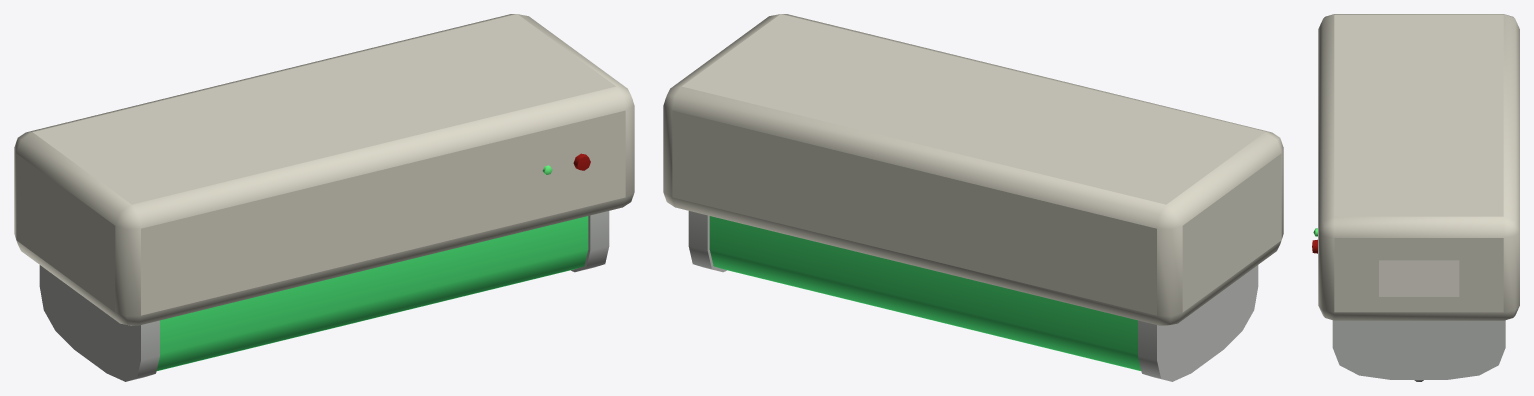
The model's file is safety_light@1.glb.
The picture shows the model from 3 angles, left to right: view 1: azimuth 30°, elevation 25°; view 2: azimuth 150°, elevation 25°; view 3: azimuth 270°, elevation 25°; orthographic projection. The views are drawn at different scales.
Visible parts, largest first — view 1: safety_light0, safety_light1, safety_light2; view 2: safety_light0, safety_light1, safety_light2; view 3: safety_light0, safety_light2, safety_light6.
Part boxes in pixels (x1=…): safety_light0: x1=14, y1=14, x2=634, y2=325; safety_light1: x1=156, y1=216, x2=588, y2=370; safety_light2: x1=39, y1=211, x2=609, y2=381; safety_light0: x1=663, y1=14, x2=1283, y2=325; safety_light1: x1=709, y1=216, x2=1141, y2=370; safety_light2: x1=688, y1=211, x2=1258, y2=381; safety_light0: x1=1318, y1=14, x2=1519, y2=320; safety_light2: x1=1332, y1=320, x2=1505, y2=379; safety_light6: x1=1379, y1=260, x2=1459, y2=296.
Bounding box in the file's own units: 0.3805 × 0.141 × 0.1547.
